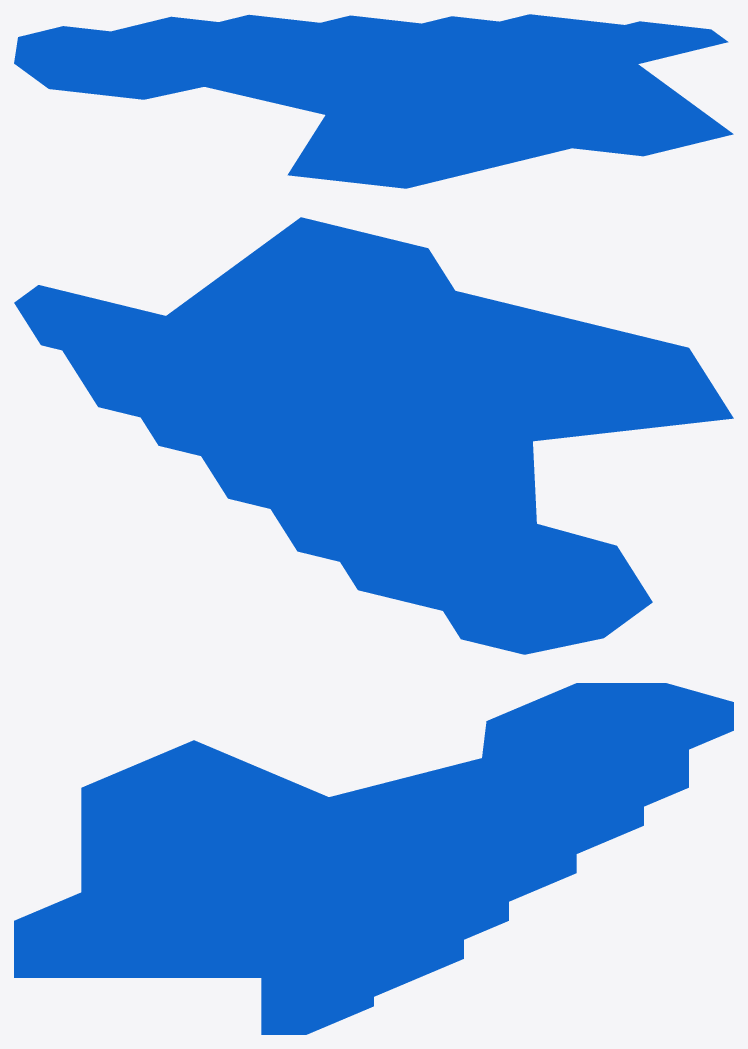
The model's file is SM_MainLevel_Ground_4.fbx.
3 renders of one model, top to bottom at view 1: azimuth 30°, elevation 25°; view 2: azimuth 150°, elevation 25°; view 3: azimuth 270°, elevation 25°, orthographic. The views are drawn at different scales.
Parts seen in each view (by area): view 1: SM_MainLevel_Ground_4; view 2: SM_MainLevel_Ground_4; view 3: SM_MainLevel_Ground_4.
Boxes of the visible parts, x1,y1,x2,y2 form: SM_MainLevel_Ground_4: (14,14,733,188); SM_MainLevel_Ground_4: (14,217,733,654); SM_MainLevel_Ground_4: (14,683,733,1034).
Size of the model in its own units: 37 by 1.22e-06 by 32.
